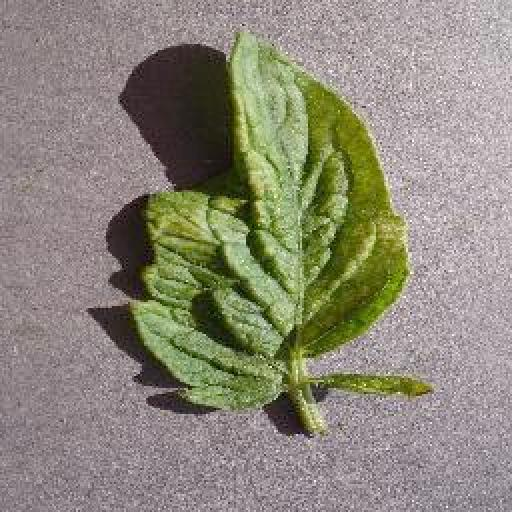disease_tomato: (134, 26, 412, 414)
